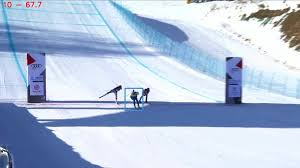skier: (125, 88, 144, 111)
